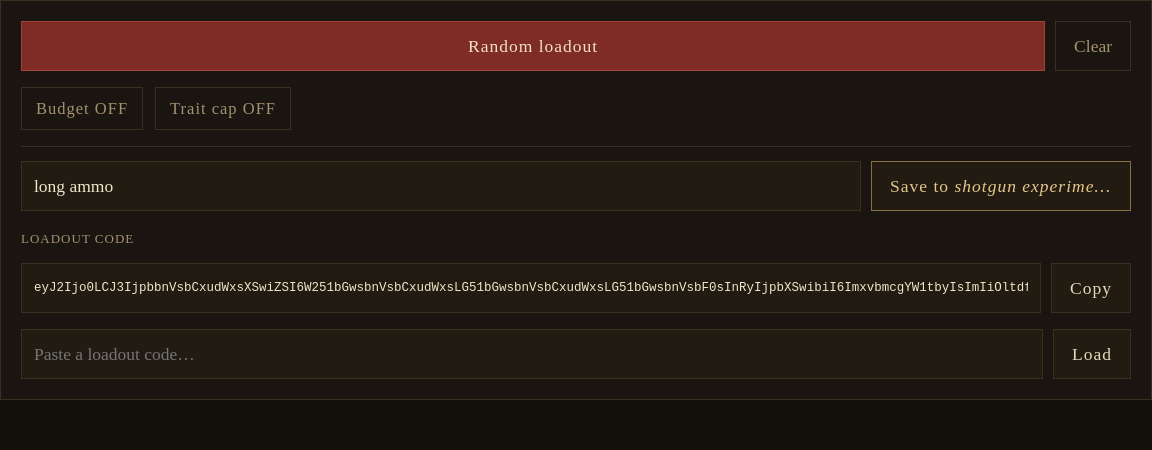
Scenario: the save control names its destination › names the open list, and files into it
Click the button "Save to shotgun experiments" at (1001, 186), box [871, 161, 1131, 211]
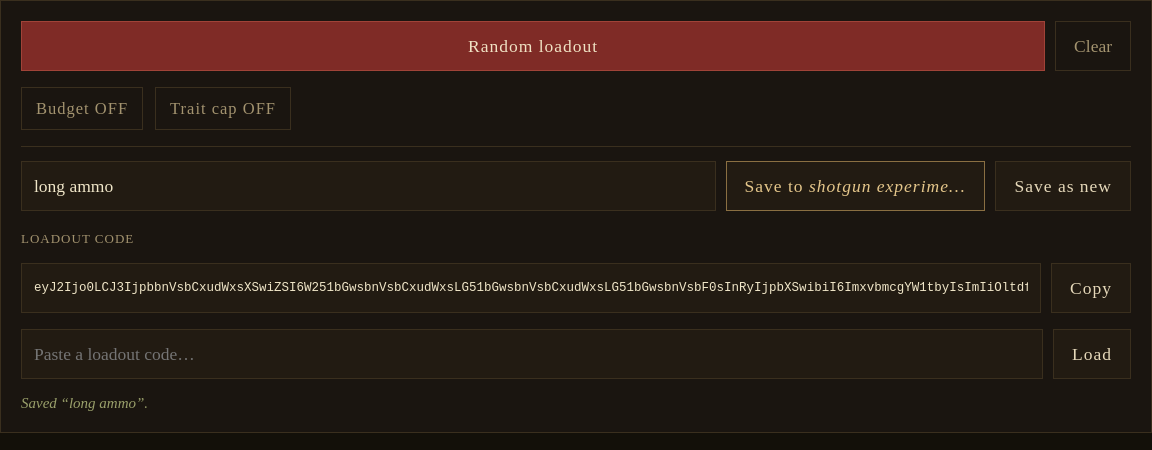
Now the text "Saved “long ammo”." is shown, box [21, 395, 148, 411]
